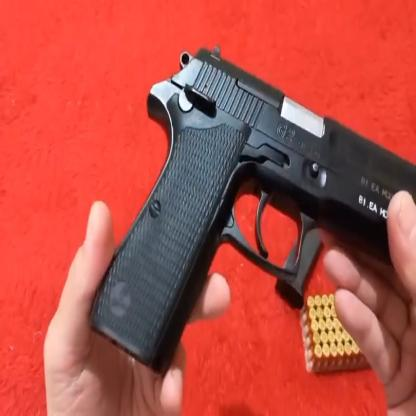handgun: (75, 43, 416, 372)
